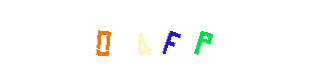4: (120, 0, 200, 80)
F: (130, 0, 210, 80)
O: (63, 0, 143, 80)
P: (163, 0, 243, 80)
